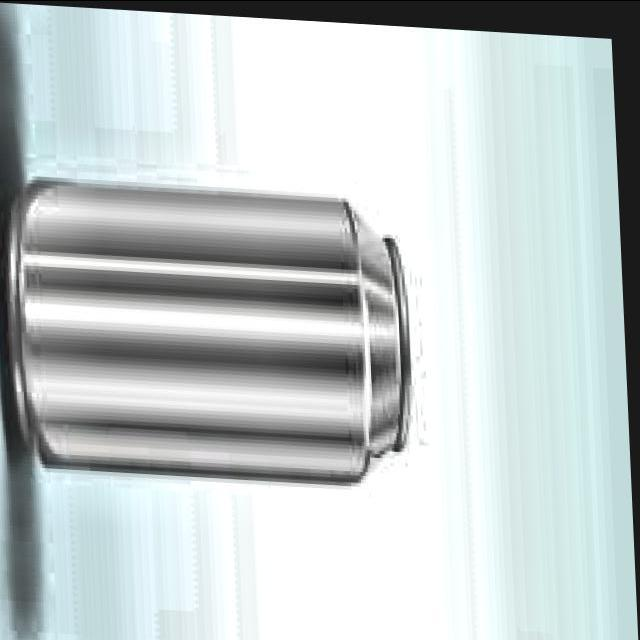Aluminum Can: (0, 171, 428, 498)
